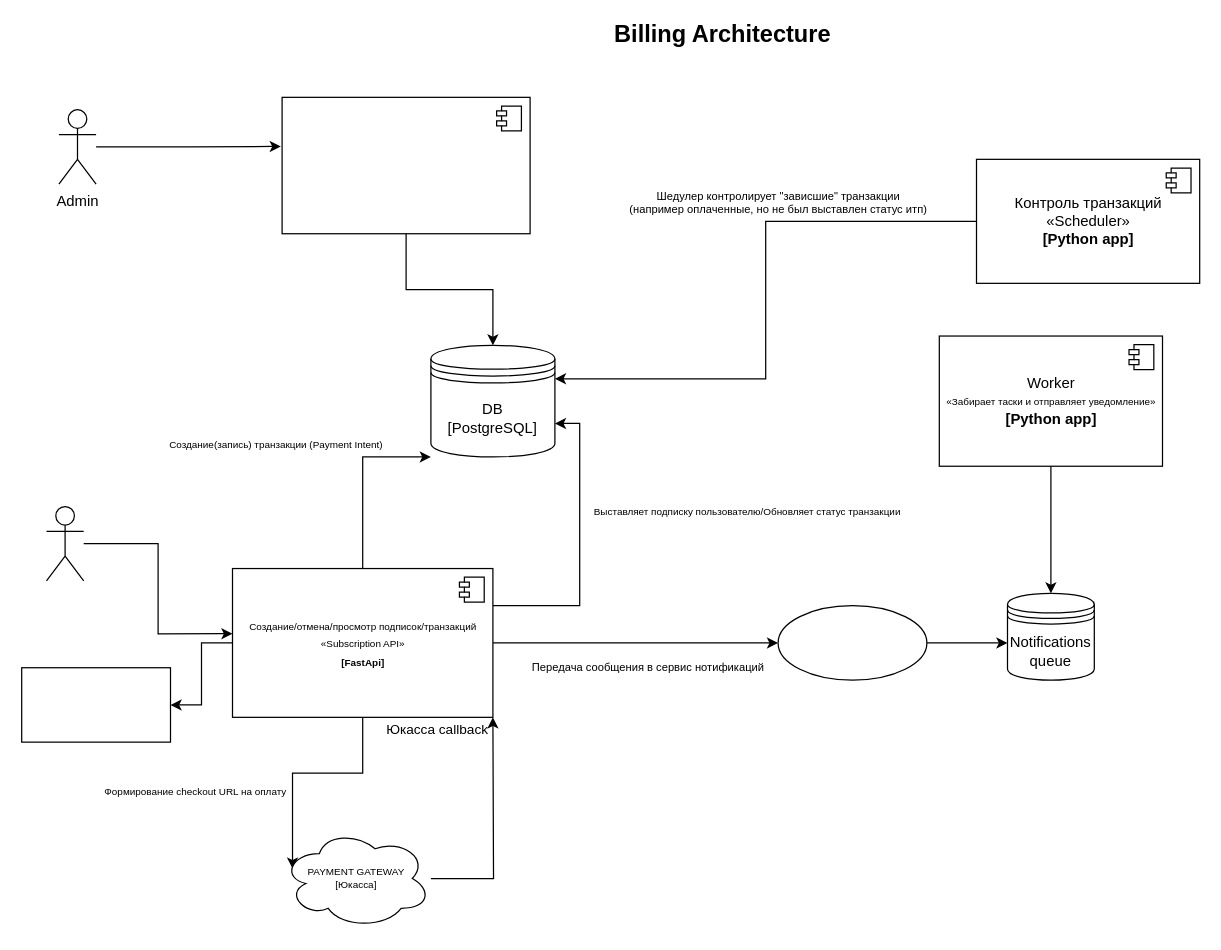
Some shapes in this 1221 by 950 pixel diagram are drawn without their labels. Here are the shapes that lost their labels. From the top down, the centre of each, then its label:
point (405, 165): Админка Просмотр подсписок, транзакций «Admin Panel» [Django]
point (64, 543): Customer
point (852, 642): RabbitMQ
point (95, 704): Сервис Auth [Flask app]
